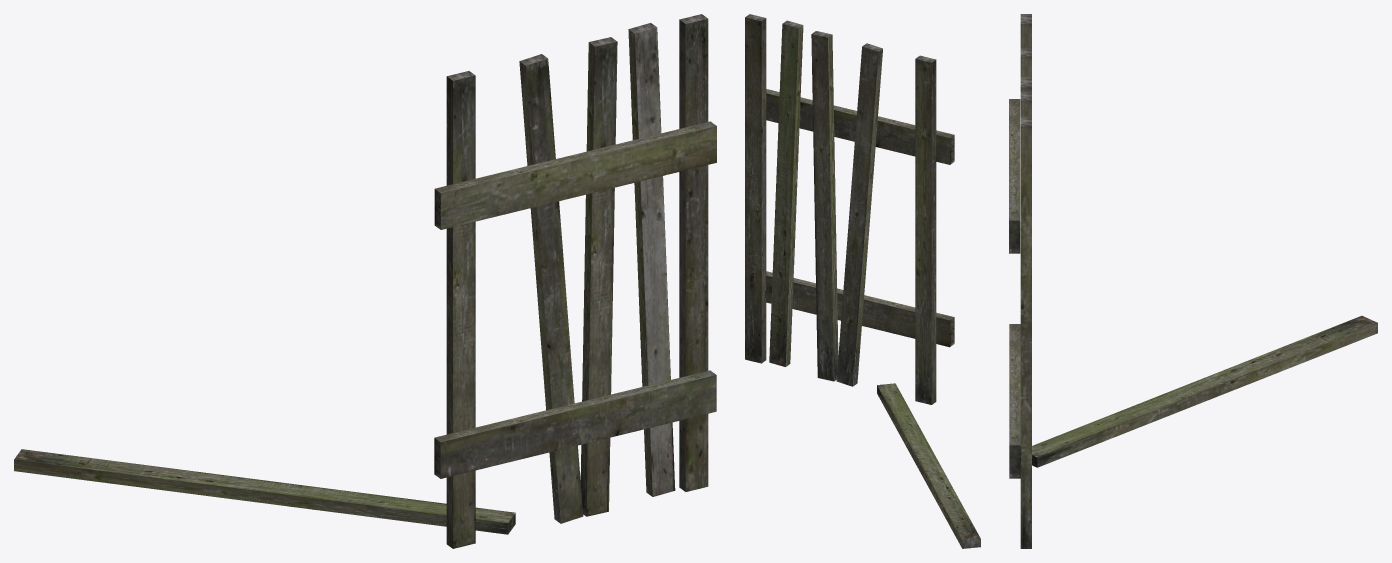
The model's file is fence3.obj.
The picture shows the model from 3 angles, left to right: view 1: azimuth 30°, elevation 25°; view 2: azimuth 150°, elevation 25°; view 3: azimuth 270°, elevation 25°; orthographic projection. The views are drawn at different scales.
Visible parts, largest first — view 1: 0; view 2: 0; view 3: 0.
Part boxes in pixels (left/top/right/bottom): 0: left=14, top=14, right=716, bottom=548; 0: left=745, top=14, right=980, bottom=548; 0: left=1009, top=14, right=1377, bottom=548.
Size of the model in its own units: 1.84 by 1.64 by 1.28.
